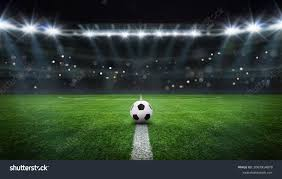football ball: (129, 99, 155, 124)
